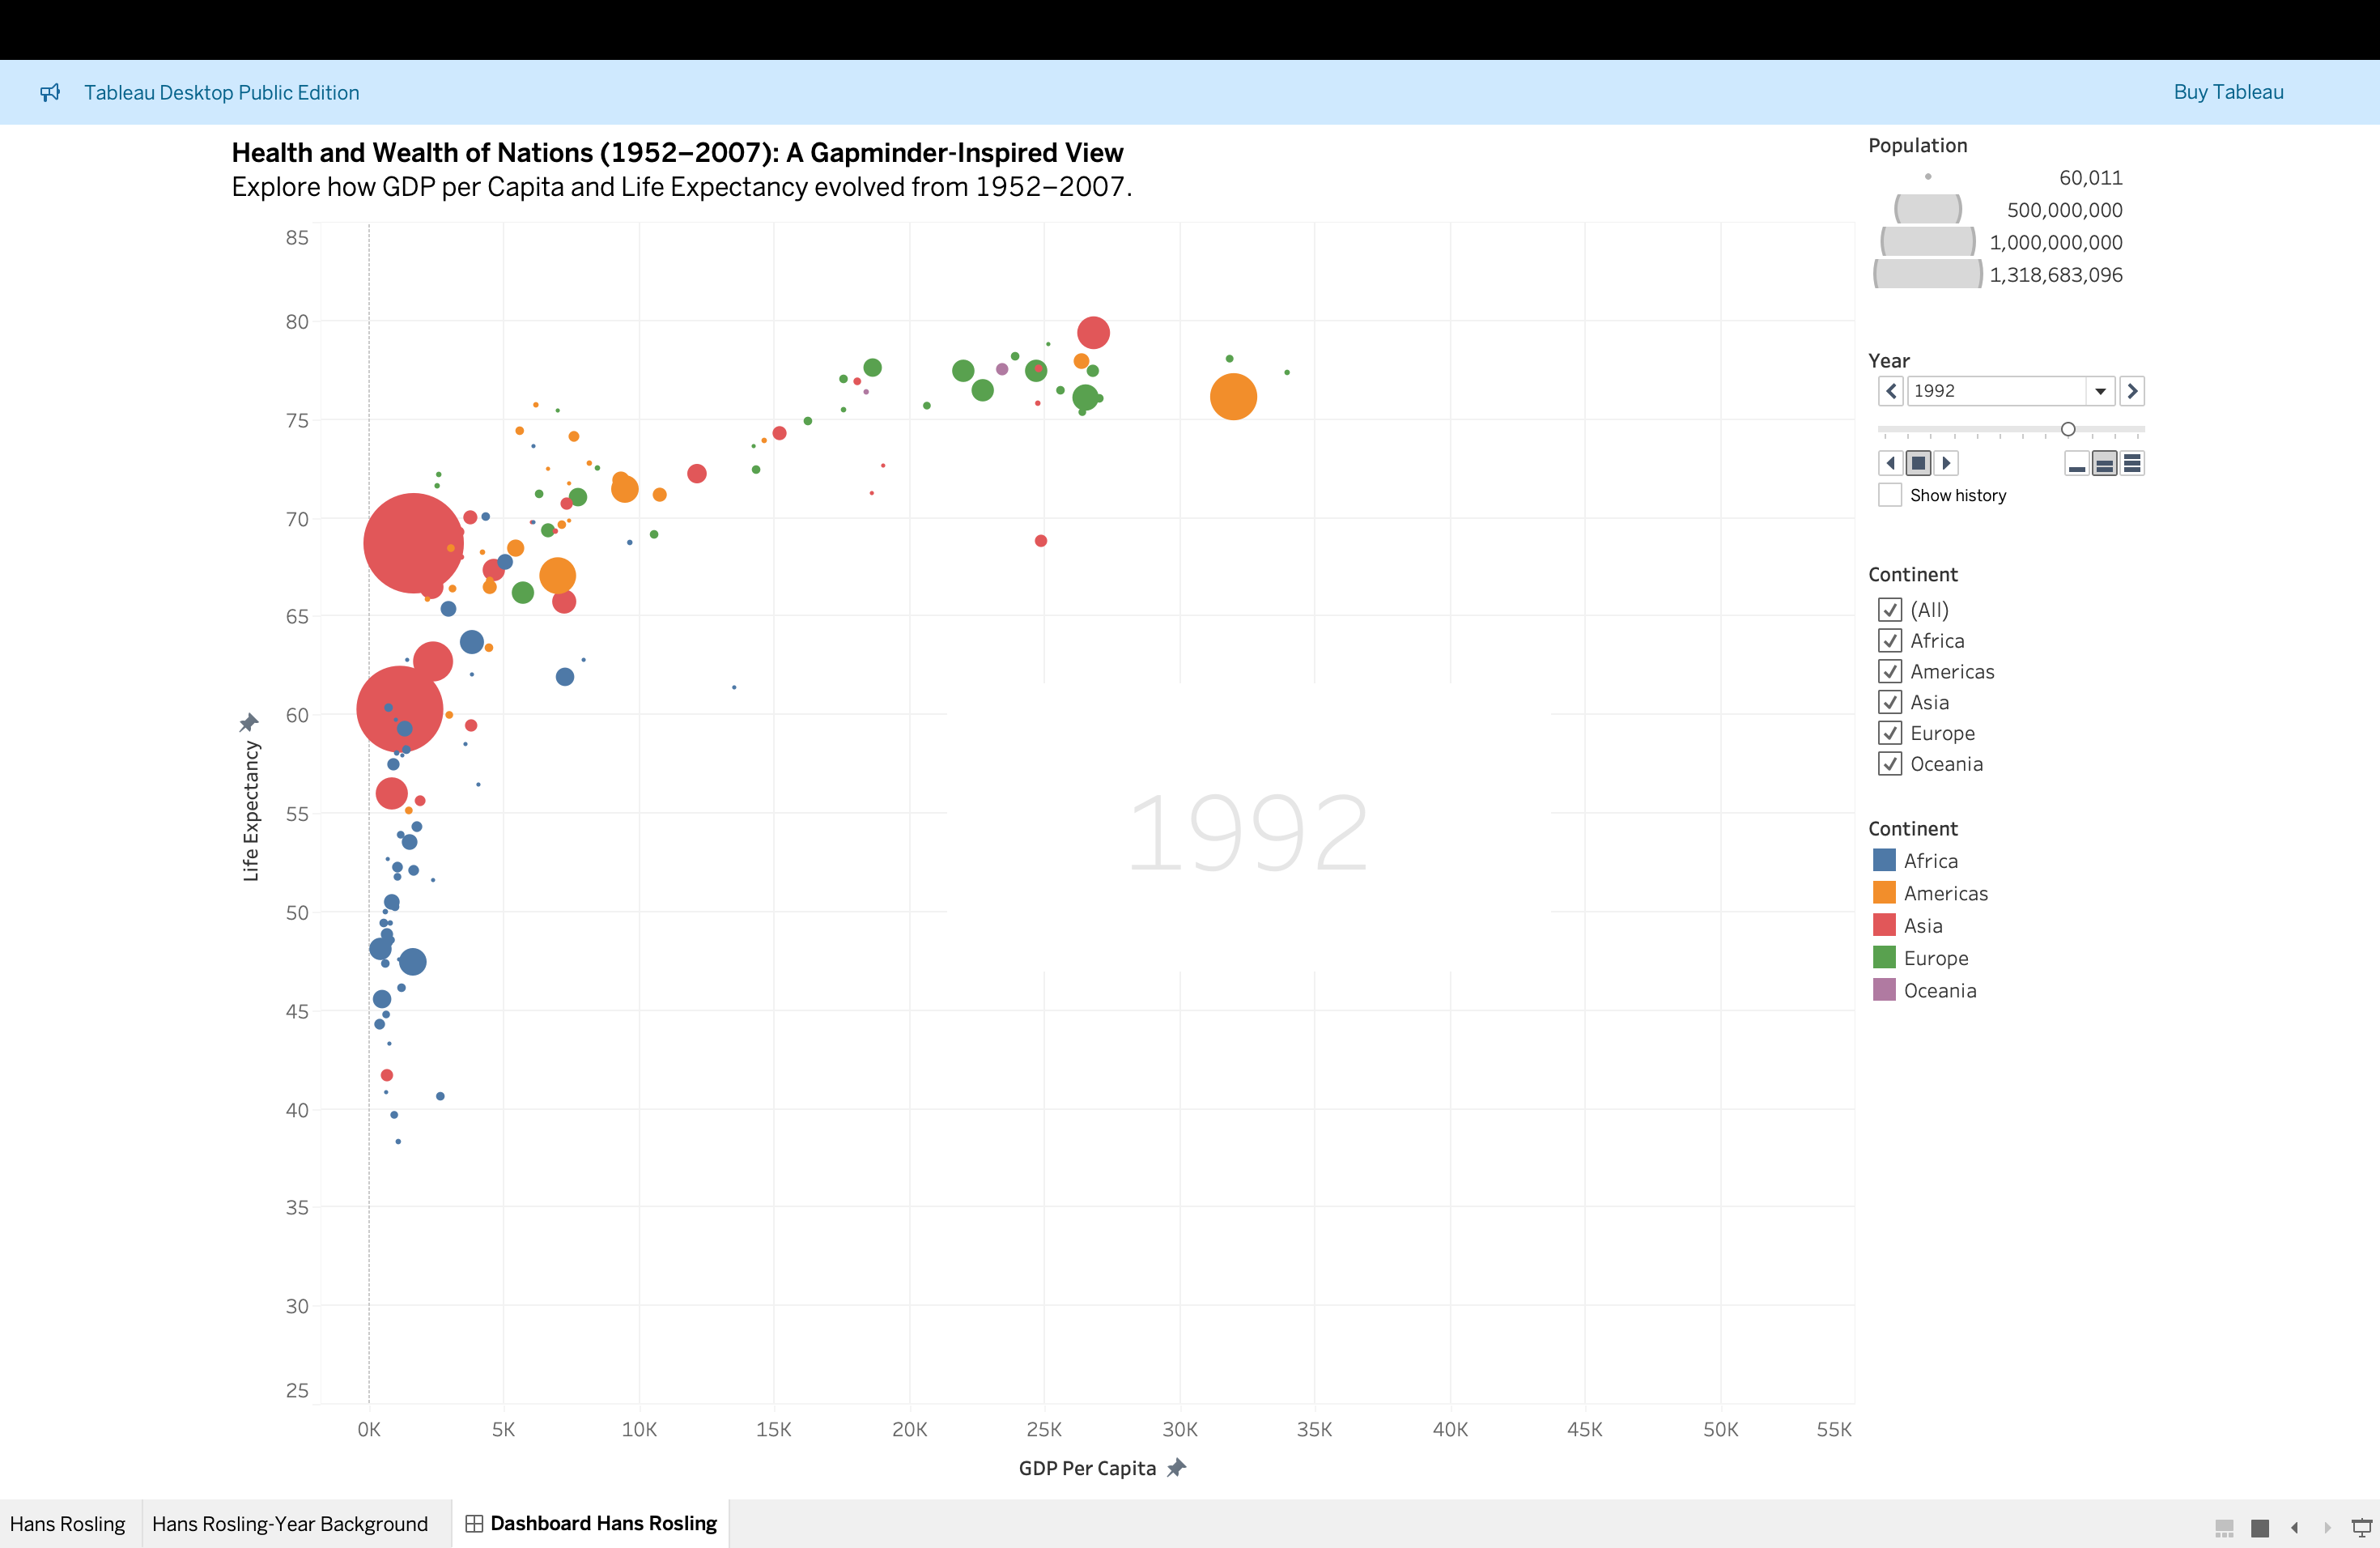

Layout of this report page (visuals, bound fields, positions):
{"tool":"tableau","page":{"name":"Dashboard Hans Rosling","canvas":[1000,1000],"units":"permille","ordinal":0},"visuals":[{"type":"worksheet","title":"Hans Rosling","mark":"Circle","rows":["lifeExp"],"cols":["gdpPercap"],"box":[0,0,846.1,1000]},{"type":"legend","title":"Hans Rosling","param":"[federated.0vp2gxq1xvan0r1c4r97906ehvve].[sum:pop:qk]","box":[846.1,0,153.8,156.8]},{"type":"currpage","title":"Hans Rosling","box":[846.1,156.8,153.8,155.5]},{"type":"filter","title":"Hans Rosling","param":"[federated.0vp2gxq1xvan0r1c4r97906ehvve].[none:continent:nk]","box":[846.1,312.2,153.8,206.8]},{"type":"worksheet","title":"Hans Rosling-Year Background","mark":"Text","box":[375,388.7,310.8,227.9]},{"type":"legend","title":"Hans Rosling","param":"[federated.0vp2gxq1xvan0r1c4r97906ehvve].[none:continent:nk]","box":[846.1,519.1,153.8,166]}]}

Visuals, with their boxes on the dashboard's canvas, which has no fixed pixel size, in thousandths of its width and height (x1, y1, x2, y2). These are canvas units, not pixel positions in the 2380x1548 screenshot, which may show the page scaled, cropped or inside an application window:
"Hans Rosling" worksheet (Circle marks): 0 0 846 1000
"Hans Rosling" legend: 846 0 1000 157
"Hans Rosling" currpage: 846 157 1000 312
"Hans Rosling" filter: 846 312 1000 519
"Hans Rosling-Year Background" worksheet (Text marks): 375 389 686 617
"Hans Rosling" legend: 846 519 1000 685
